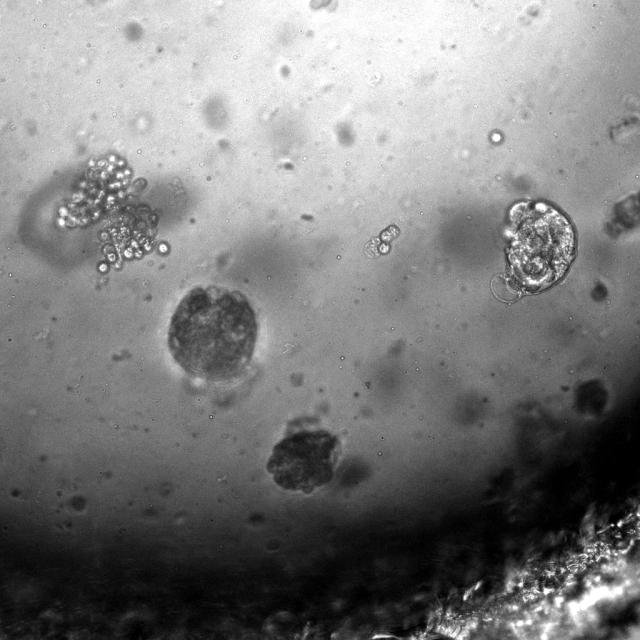organoid: (56, 153, 158, 272), (491, 199, 577, 303), (168, 286, 257, 379), (267, 431, 336, 492), (606, 191, 639, 239), (364, 224, 399, 259), (575, 379, 608, 415), (591, 281, 608, 301), (156, 240, 170, 256)
